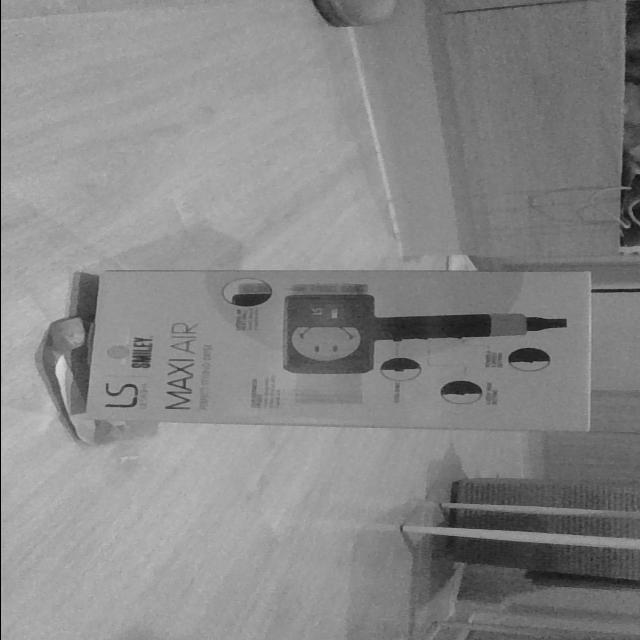IRON: (73, 266, 595, 434)
